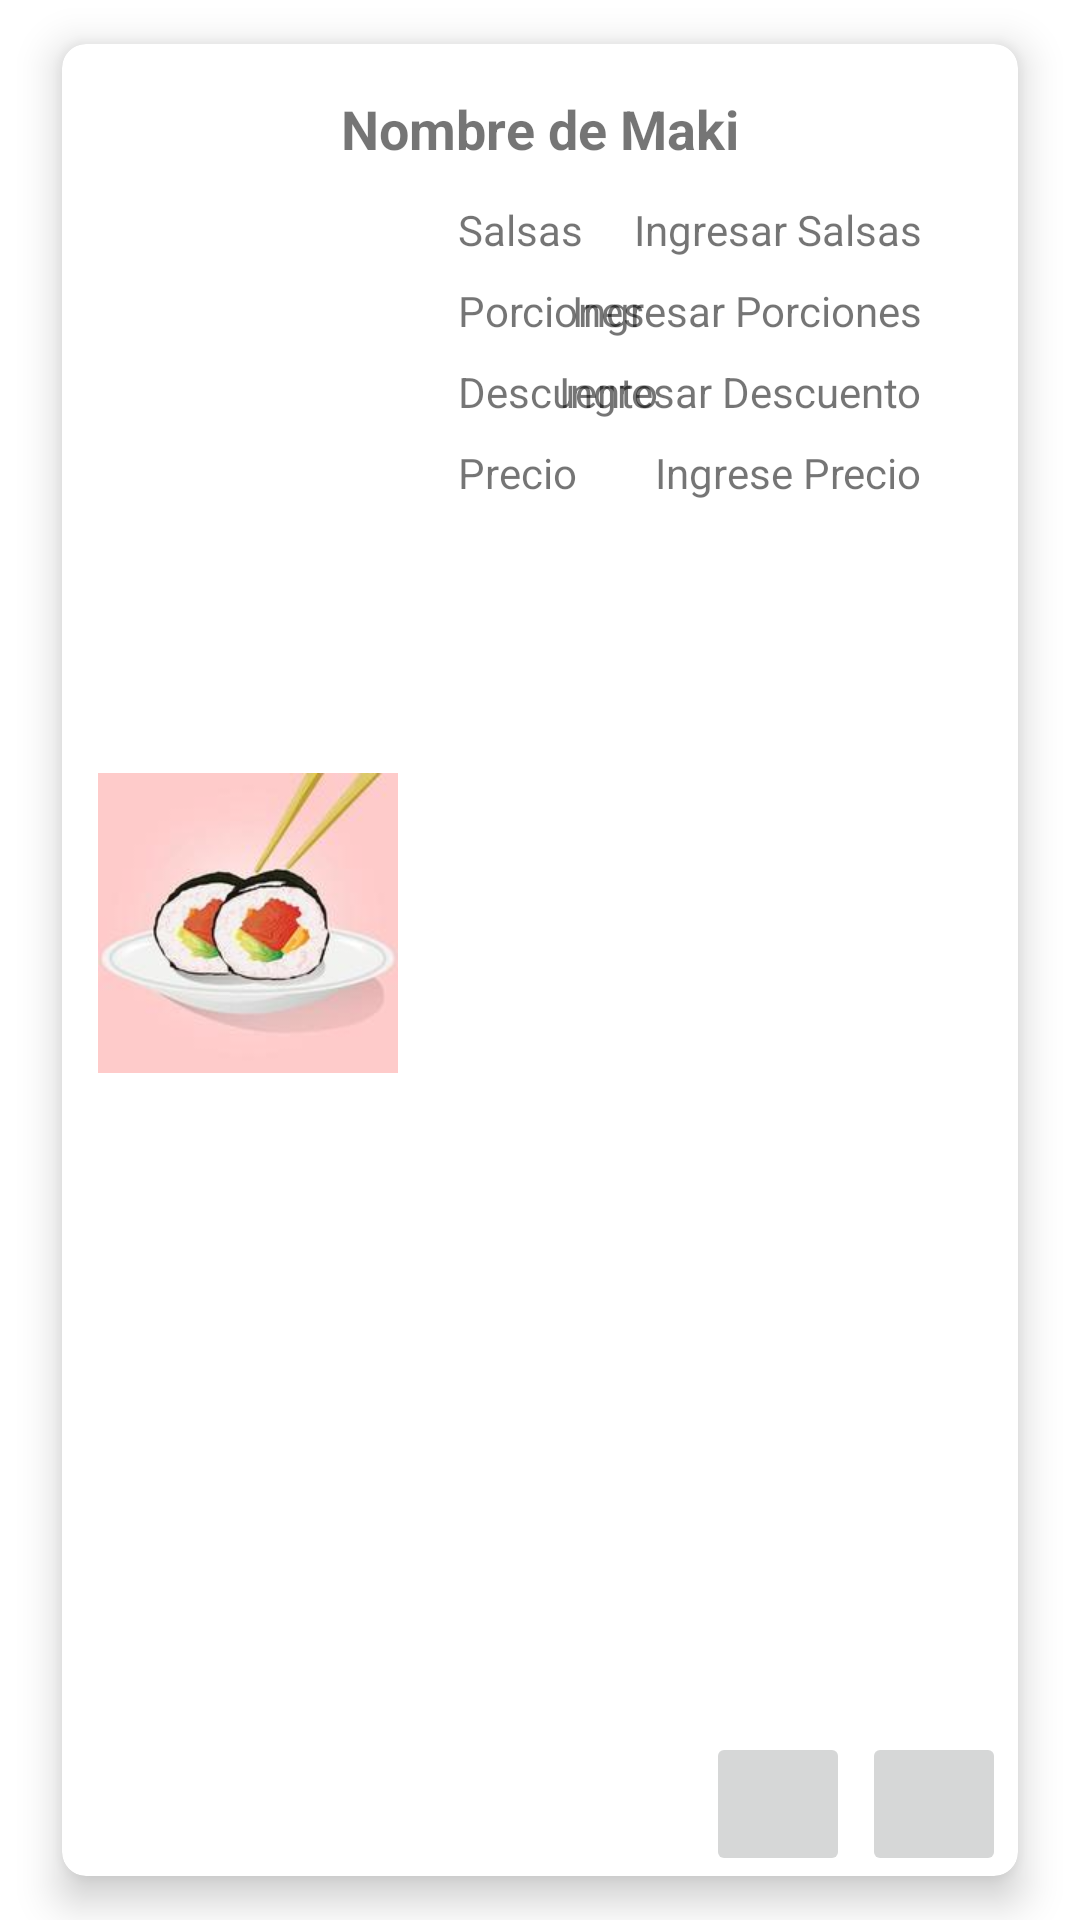

Icons on this 1080 × 1920 Android screen, each with its box as (x1, y1, x2, y2):
makis: (98, 773, 398, 1073)
